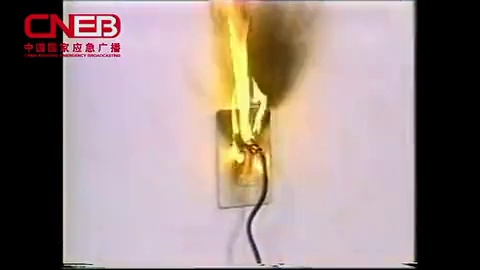fire: (209, 1, 272, 180)
